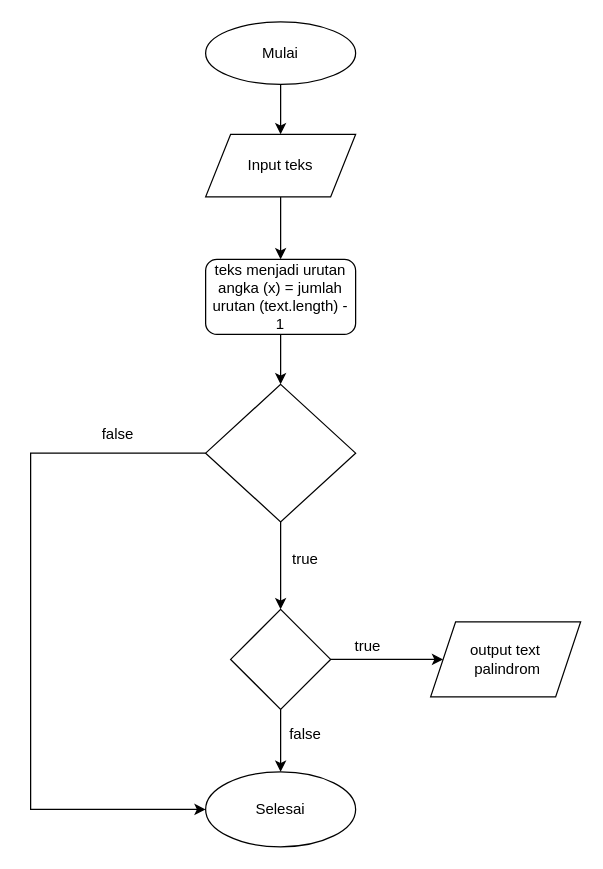
Some shapes in this 603 by 869 pixel diagram are drawn without their labels. Here are the shapes that lost their labels. From the top down, the centre of each, then its label:
the point at 280,452: apakah x >= 0?
the point at 280,658: apakah x = teks ?
